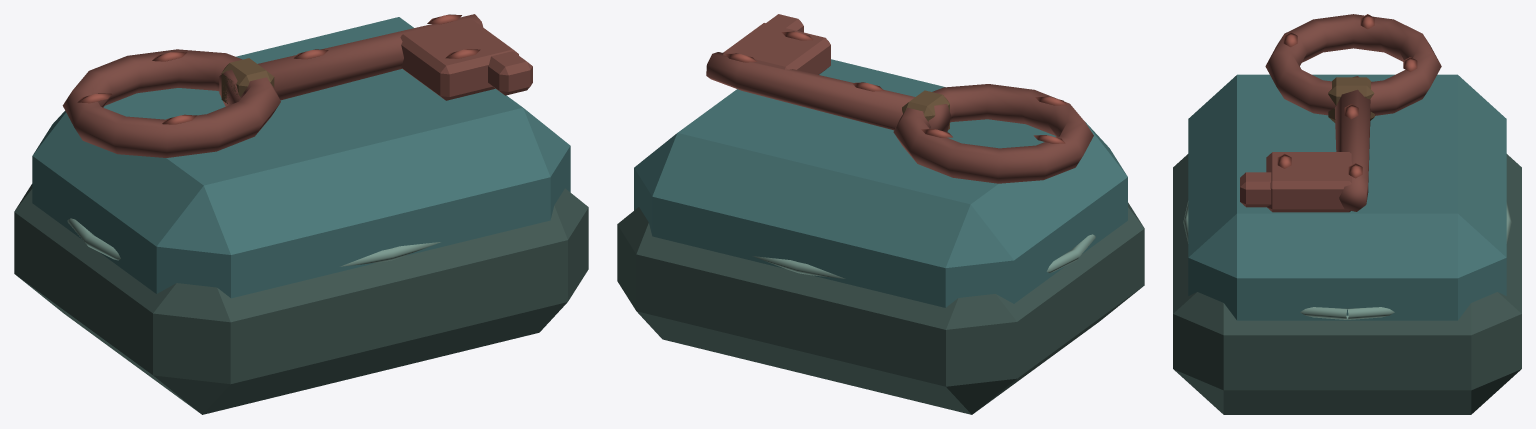
Rendered from rusty_key.glb.
3 views of the same model, side by side, from view 1: azimuth 30°, elevation 25°; view 2: azimuth 150°, elevation 25°; view 3: azimuth 270°, elevation 25° (orthographic). The views are drawn at different scales.
Parts seen in each view (by area): view 1: rusty_key; view 2: rusty_key; view 3: rusty_key.
Boxes of the visible parts, left/top/right/bottom form: rusty_key: left=14, top=14, right=588, bottom=414; rusty_key: left=617, top=14, right=1144, bottom=414; rusty_key: left=1173, top=14, right=1521, bottom=414.
Size of the model in its own units: 0.224 by 0.13 by 0.172.
